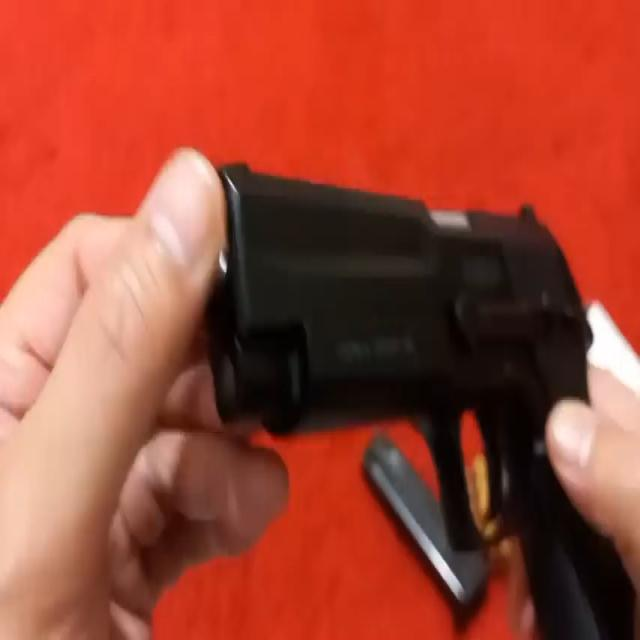handgun: (202, 134, 608, 553)
